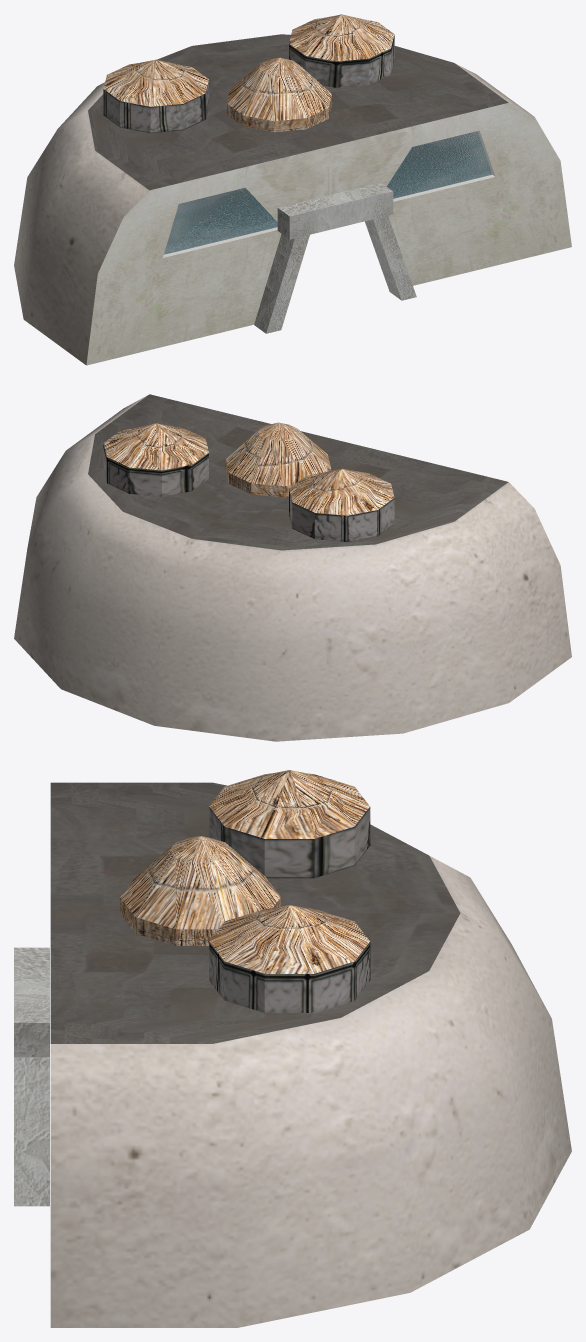
The model's file is Museo.fbx.
3 renders of one model, top to bottom at view 1: azimuth 30°, elevation 25°; view 2: azimuth 150°, elevation 25°; view 3: azimuth 270°, elevation 25°, orthographic. The views are drawn at different scales.
Parts seen in each view (by area): view 1: polySurface5; view 2: polySurface5; view 3: polySurface5.
Part boxes in pixels (x1=…): polySurface5: x1=14, y1=14, x2=571, y2=365; polySurface5: x1=14, y1=394, x2=571, y2=741; polySurface5: x1=14, y1=770, x2=571, y2=1327.
Bounding box in the file's own units: 23.19 × 9.66 × 15.48.
1 material, 1 textured.
